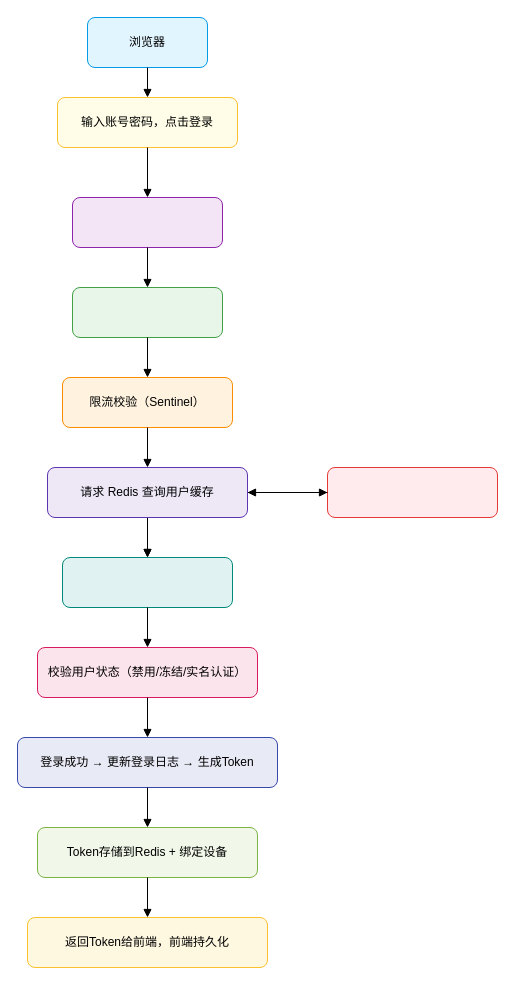
This 515x985 diagram has some shape labels left out. The centre of each missing label's shape, as x and y in pixels:
"前端加密（可选）" belongs at (147,222).
"后端 API 接收" belongs at (147,312).
"未命中 → 查询数据库" belongs at (412,492).
"比对密码（哈希比对）" belongs at (147,582).
